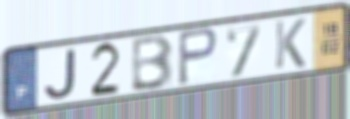2: (89, 41, 123, 99)
7: (224, 21, 263, 80)
B: (129, 32, 176, 94)
J: (42, 46, 79, 101)
K: (273, 16, 308, 71)
P: (176, 26, 220, 88)
